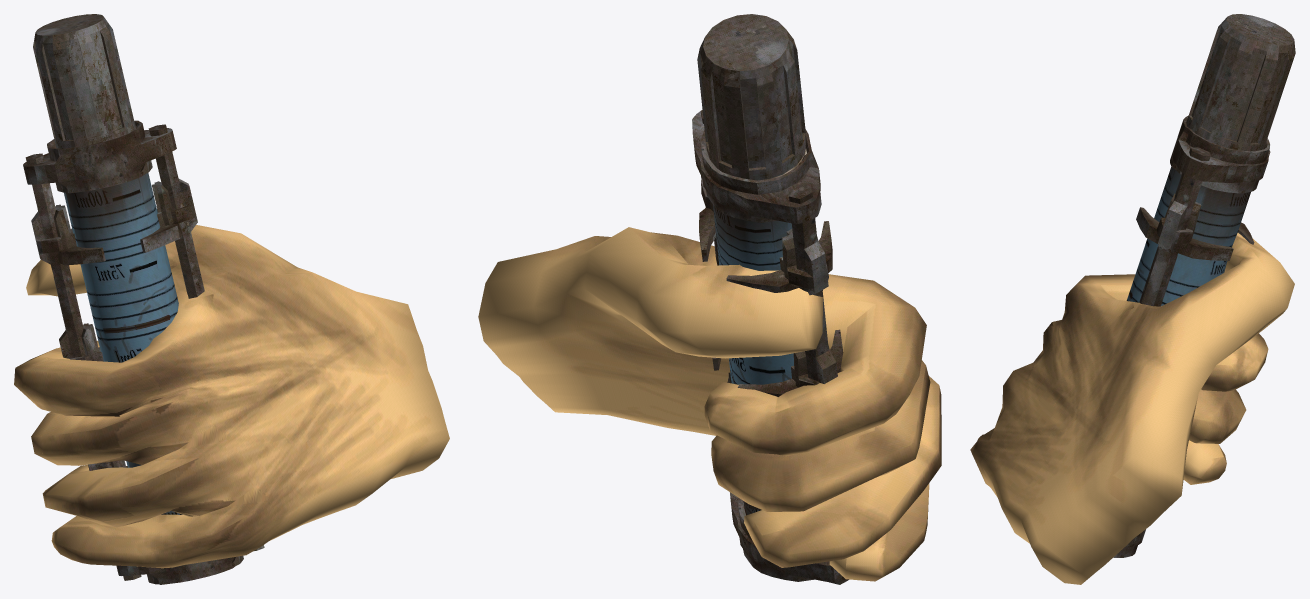
Rendered from dealer hands_adrenaline1.glb.
3 renders of one model, left to right at view 1: azimuth 30°, elevation 25°; view 2: azimuth 150°, elevation 25°; view 3: azimuth 270°, elevation 25°, orthographic. The views are drawn at different scales.
Visible parts, largest first — view 1: Plane_004, adrenaline main parent, adrenaline cap; view 2: Plane_004, adrenaline main parent, adrenaline cap; view 3: Plane_004, adrenaline main parent, adrenaline cap.
Boxes of the visible parts, x1,y1,x2,y2 form: Plane_004: [14, 225, 449, 568]; adrenaline main parent: [23, 120, 264, 584]; adrenaline cap: [33, 14, 135, 148]; Plane_004: [478, 227, 941, 581]; adrenaline main parent: [692, 110, 848, 584]; adrenaline cap: [697, 14, 806, 180]; Plane_004: [970, 233, 1294, 584]; adrenaline main parent: [1113, 115, 1270, 557]; adrenaline cap: [1186, 14, 1295, 151].
Bounding box in the file's own units: 2.77 × 3.73 × 2.15.
6 materials, 5 textured.
